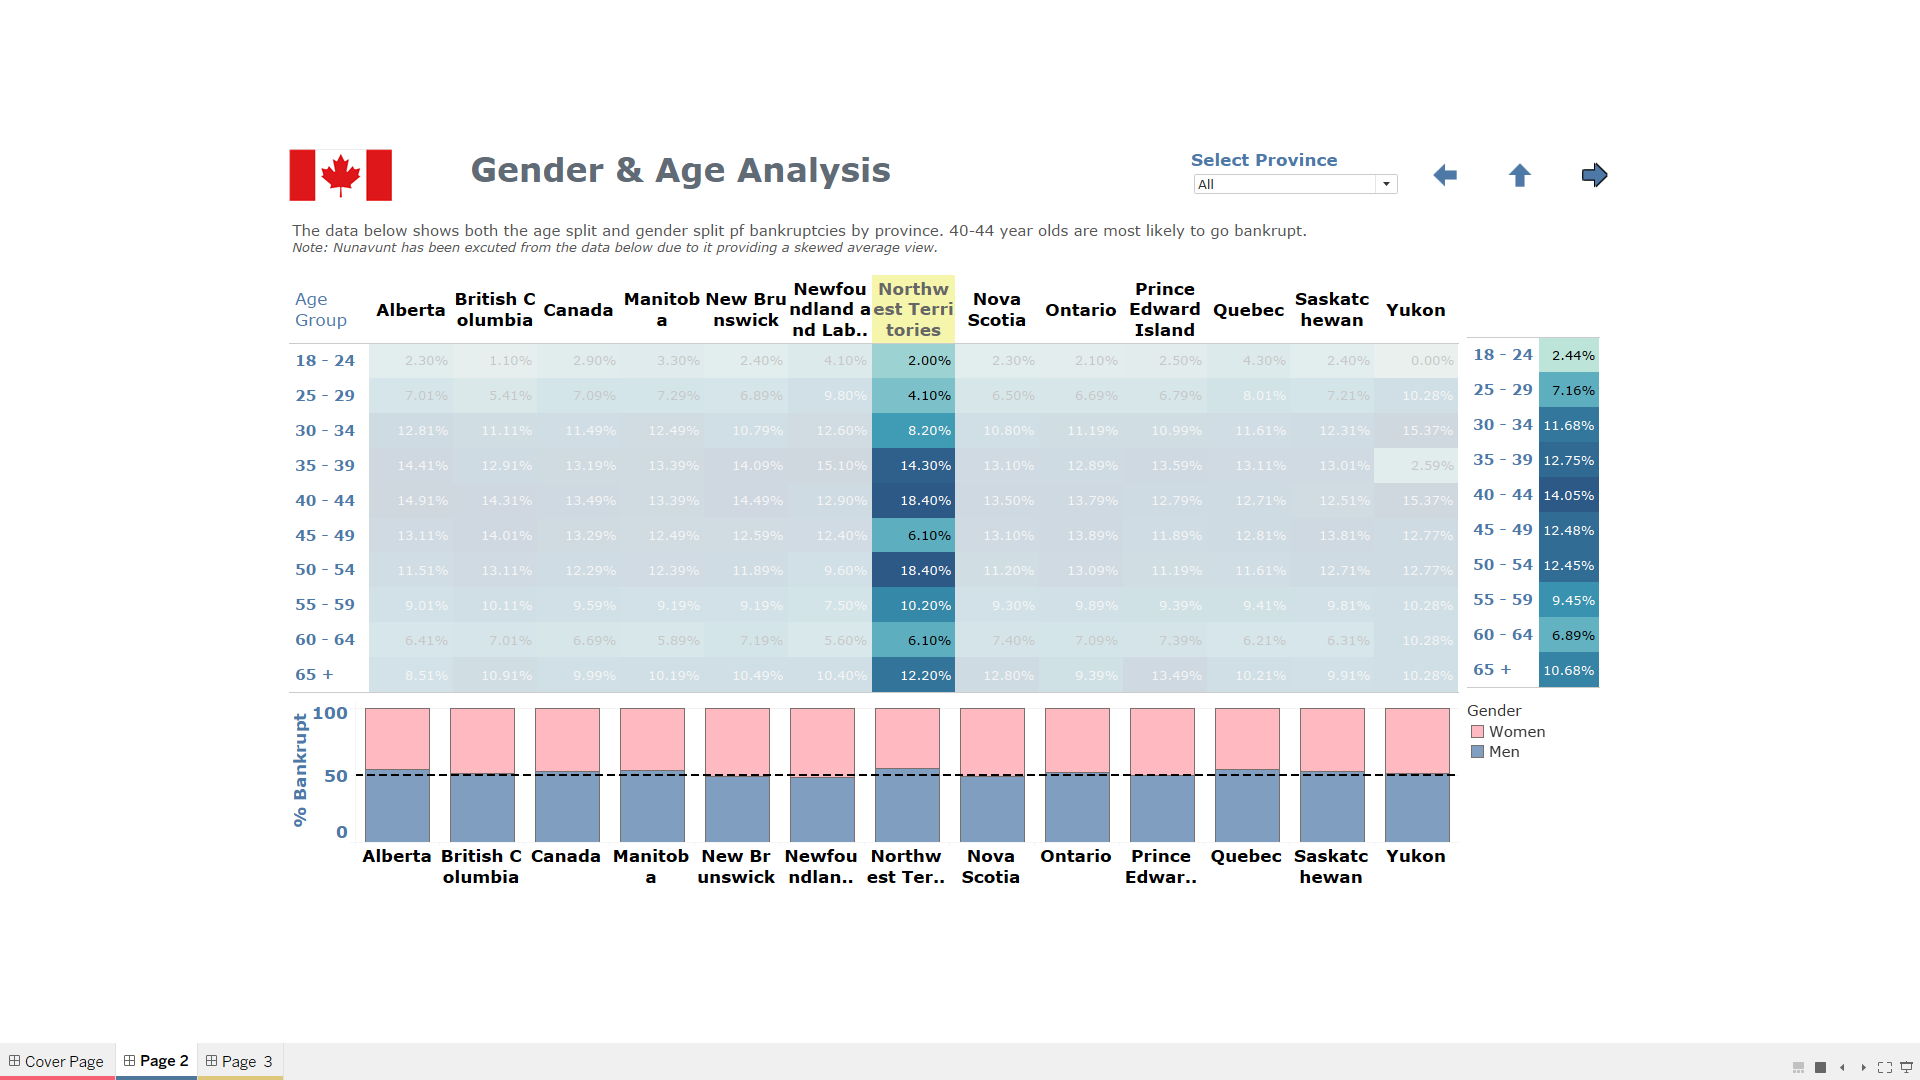

What the dashboard file says about the page in this screenshot:
{"tool":"tableau","page":{"name":"Page 2","canvas":[1366,768],"ordinal":2},"visuals":[{"type":"image","param":"Image/Canada.jpg","box":[8,8,178.3,60.4]},{"type":"title","box":[186.3,8,600.9,49]},{"type":"blank","box":[787.2,8,122.8,60.4]},{"type":"parameter","param":"[Parameters].[Parámetro 1]","box":[910,8,218,60.4]},{"type":"worksheet","title":"Left","mark":"Shape","rows":["Page desc"],"box":[1128,8,80,60.4]},{"type":"worksheet","title":"home","mark":"Shape","rows":["Page desc"],"box":[1208,8,70,60.4]},{"type":"worksheet","title":"Right","mark":"Shape","rows":["Page desc"],"box":[1278,8,80,60.4]},{"type":"text","box":[8,68.4,1350,65.6]},{"type":"worksheet","title":"Age Group Highlight","mark":"Square","rows":["Age Group"],"cols":["Province"],"box":[8,134,1178,426.5]},{"type":"blank","box":[1186,134,172,47]},{"type":"worksheet","title":"Age Group Highlight total","mark":"Square","rows":["Age Group"],"box":[1186,181,172,379.5]},{"type":"worksheet","title":"Gender %","mark":"Automatic","rows":["Distribution of Insolvency Files (%)"],"cols":["Province"],"box":[8,560.5,1178,199.5]},{"type":"legend","title":"Gender %","param":"[federated.0elt36o16dld8s1gm2k2v15t069p].[none:Gender:nk]","box":[1186,560.5,172,199.5]}]}

Visuals, with their boxes on the page's 1366x768 design canvas (x1, y1, x2, y2). These are canvas units, not pixel positions in the 1920x1080 screenshot, which may show the page scaled, cropped or inside an application window:
image: 8 8 186 68
title: 186 8 787 57
blank: 787 8 910 68
parameter: 910 8 1128 68
"Left" worksheet (Shape marks): 1128 8 1208 68
"home" worksheet (Shape marks): 1208 8 1278 68
"Right" worksheet (Shape marks): 1278 8 1358 68
text: 8 68 1358 134
"Age Group Highlight" worksheet (Square marks): 8 134 1186 560
blank: 1186 134 1358 181
"Age Group Highlight total" worksheet (Square marks): 1186 181 1358 560
"Gender %" worksheet: 8 560 1186 760
"Gender %" legend: 1186 560 1358 760
